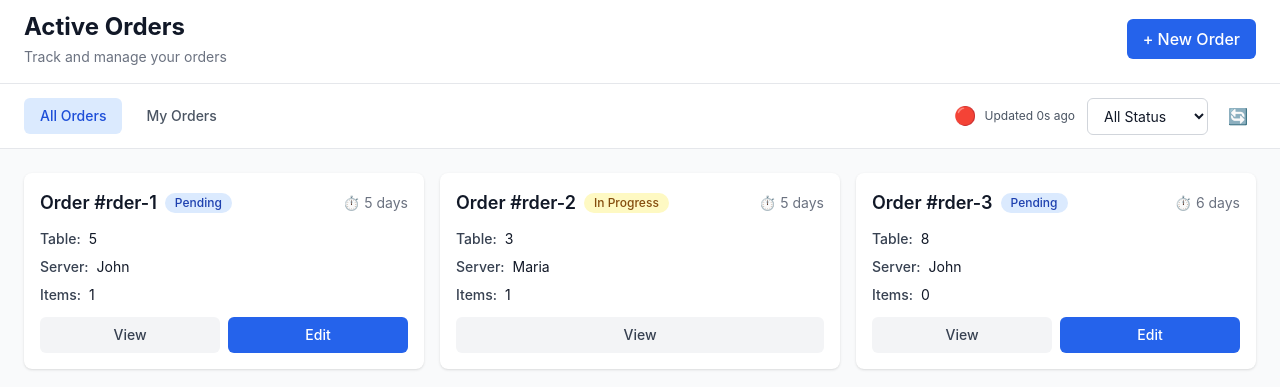
Test: OrdersPage › filters orders when "My Orders" tab is selected
The width and height of the screenshot is (1280, 387).
Click the button "My Orders" at (182, 116), box [130,98,233,134]
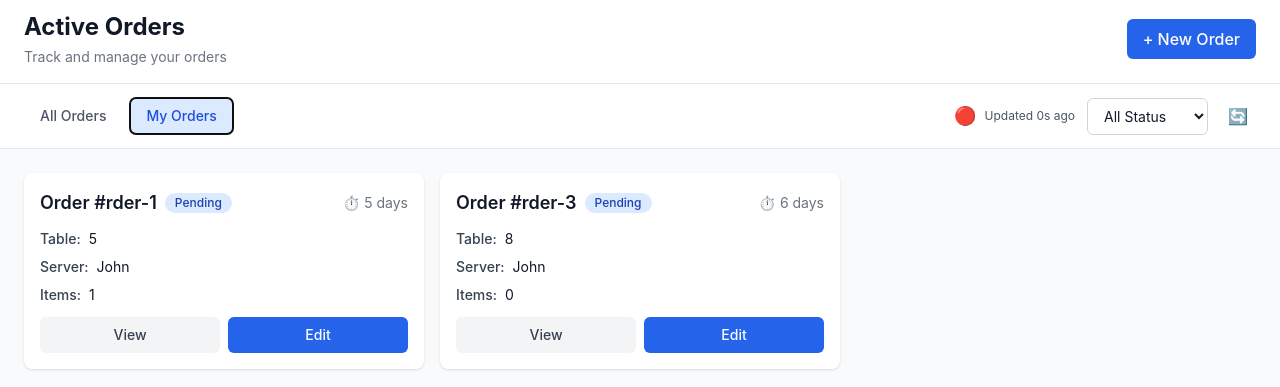
Expected: the heading "Order #rder-1" is shown, [40,189,157,217]
Expected: the heading "Order #rder-2" is gone
